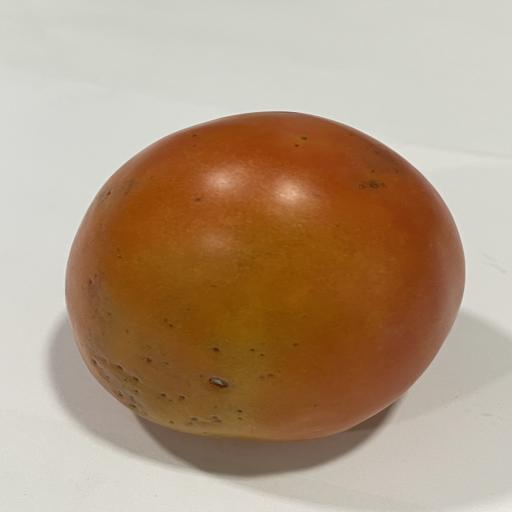unripe: (66, 112, 464, 441)
